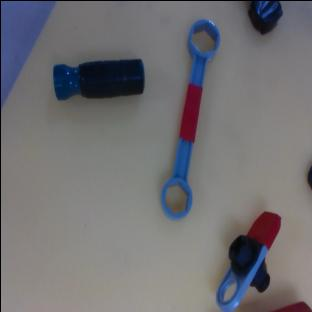part_1_good: (211, 204, 284, 312)
part_2_bad: (52, 58, 145, 100)
part_2_good: (268, 301, 312, 312)
part_3_bad: (247, 1, 282, 34)
part_3_good: (157, 17, 222, 221)
